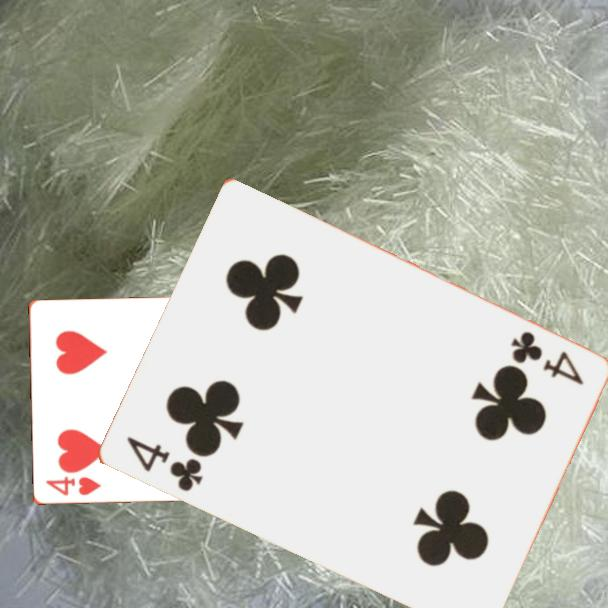c04: (122, 433, 206, 495), (506, 327, 586, 389)
h04: (42, 473, 104, 499)
